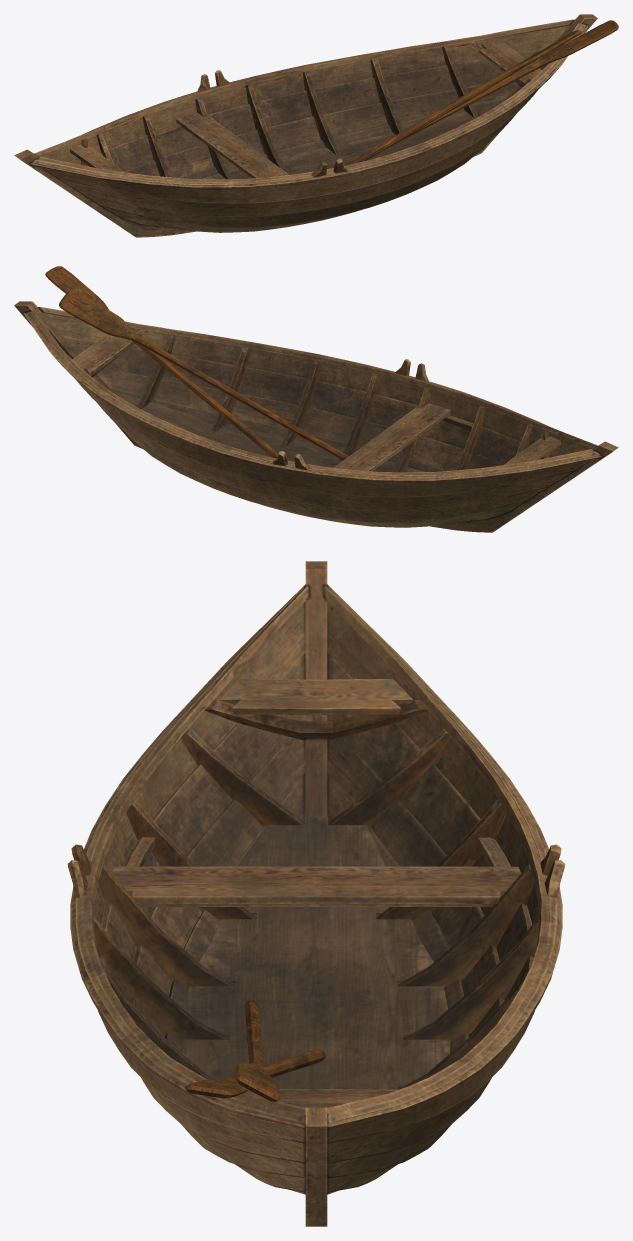
File: rowing_boat.obj
3 views of the same model, one above another, from view 1: azimuth 30°, elevation 25°; view 2: azimuth 150°, elevation 25°; view 3: azimuth 270°, elevation 25° (orthographic). The views are drawn at different scales.
Parts seen in each view (by area): view 1: rowing_boat; view 2: rowing_boat; view 3: rowing_boat.
Part boxes in pixels (x1=…): rowing_boat: x1=14, y1=14, x2=618, y2=237; rowing_boat: x1=14, y1=266, x2=618, y2=532; rowing_boat: x1=67, y1=561, x2=565, y2=1226.
Size of the model in its own units: 3 by 0.6769 by 1.12.
Materials: 1 (1 with a texture image).
